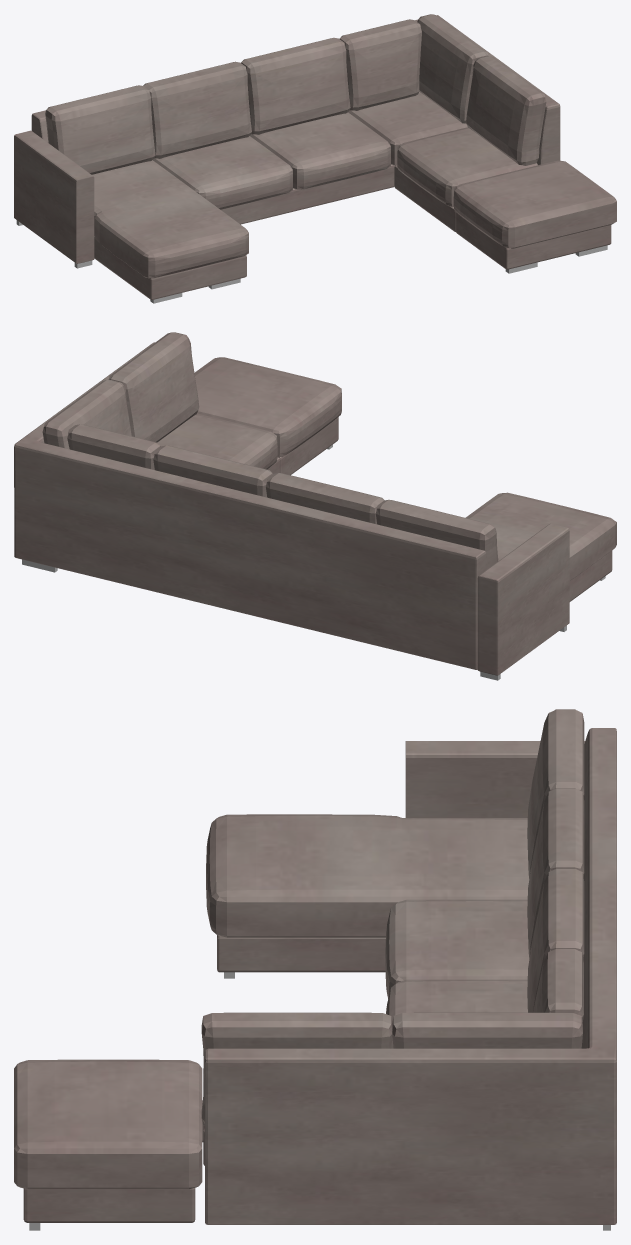
The model's file is testdivani.glb.
3 views of the same model, one above another, from view 1: azimuth 30°, elevation 25°; view 2: azimuth 150°, elevation 25°; view 3: azimuth 270°, elevation 25° (orthographic). The views are drawn at different scales.
Visible parts, largest first — view 1: Box0271, Box0272, Box0273; view 2: Box0272, Box0271; view 3: Box0272, Box0271.
Boxes of the visible parts, bbox=[...] form: Box0271: bbox=[45, 14, 616, 278]; Box0272: bbox=[14, 15, 611, 299]; Box0273: bbox=[16, 220, 607, 303]; Box0272: bbox=[14, 342, 612, 675]; Box0271: bbox=[42, 332, 616, 580]; Box0272: bbox=[23, 728, 616, 1224]; Box0271: bbox=[14, 709, 584, 1189].
Bounding box in the file's own units: 2.62 × 0.7021 × 1.92.
Materials: 2 (1 with a texture image).
